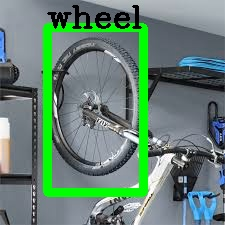wheel: (47, 27, 143, 192)
